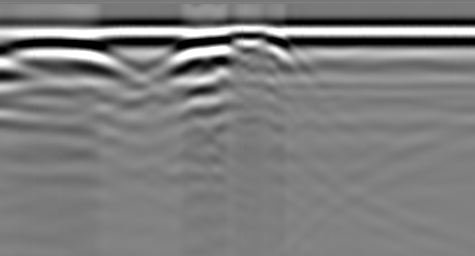pipe: (218, 28, 293, 53)
